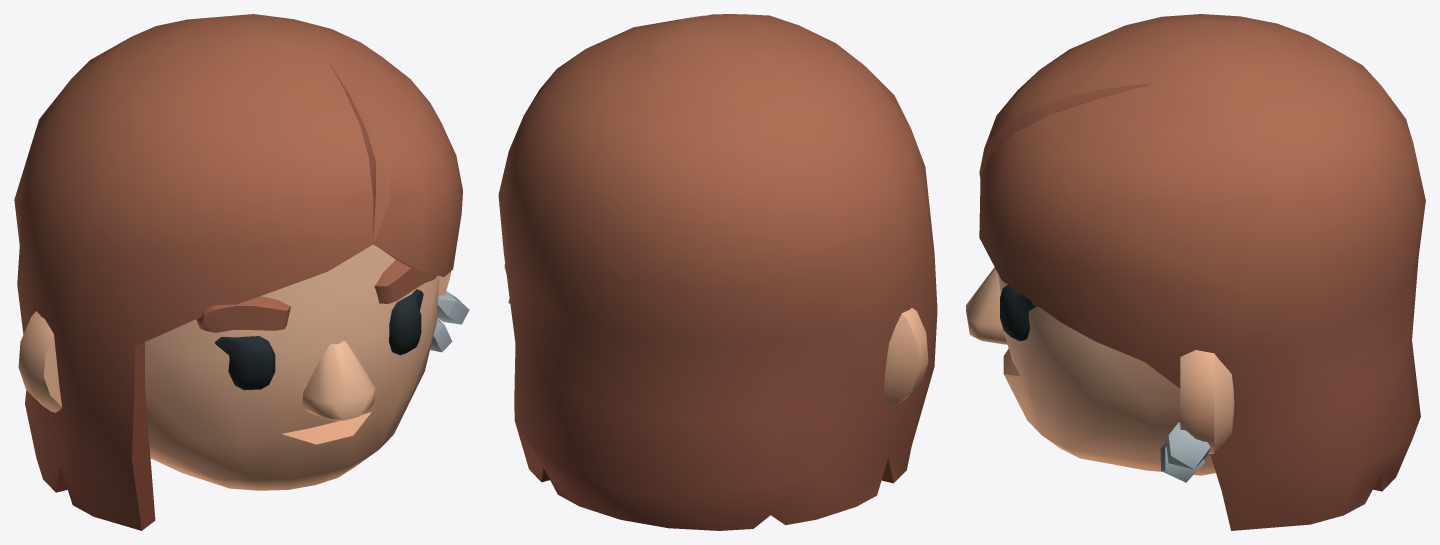
Rendered from head_base.glb.
3 renders of one model, left to right at view 1: azimuth 30°, elevation 25°; view 2: azimuth 150°, elevation 25°; view 3: azimuth 270°, elevation 25°, orthographic. The views are drawn at different scales.
Parts seen in each view (by area): view 1: Rogue.glb; view 2: Rogue.glb; view 3: Rogue.glb.
Boxes of the visible parts, x1=… form: Rogue.glb: x1=14, y1=14, x2=469, y2=530; Rogue.glb: x1=498, y1=14, x2=937, y2=530; Rogue.glb: x1=966, y1=14, x2=1425, y2=530.
Bounding box in the file's own units: 1.1 × 1.02 × 1.02.
Materials: 1 (1 with a texture image).
